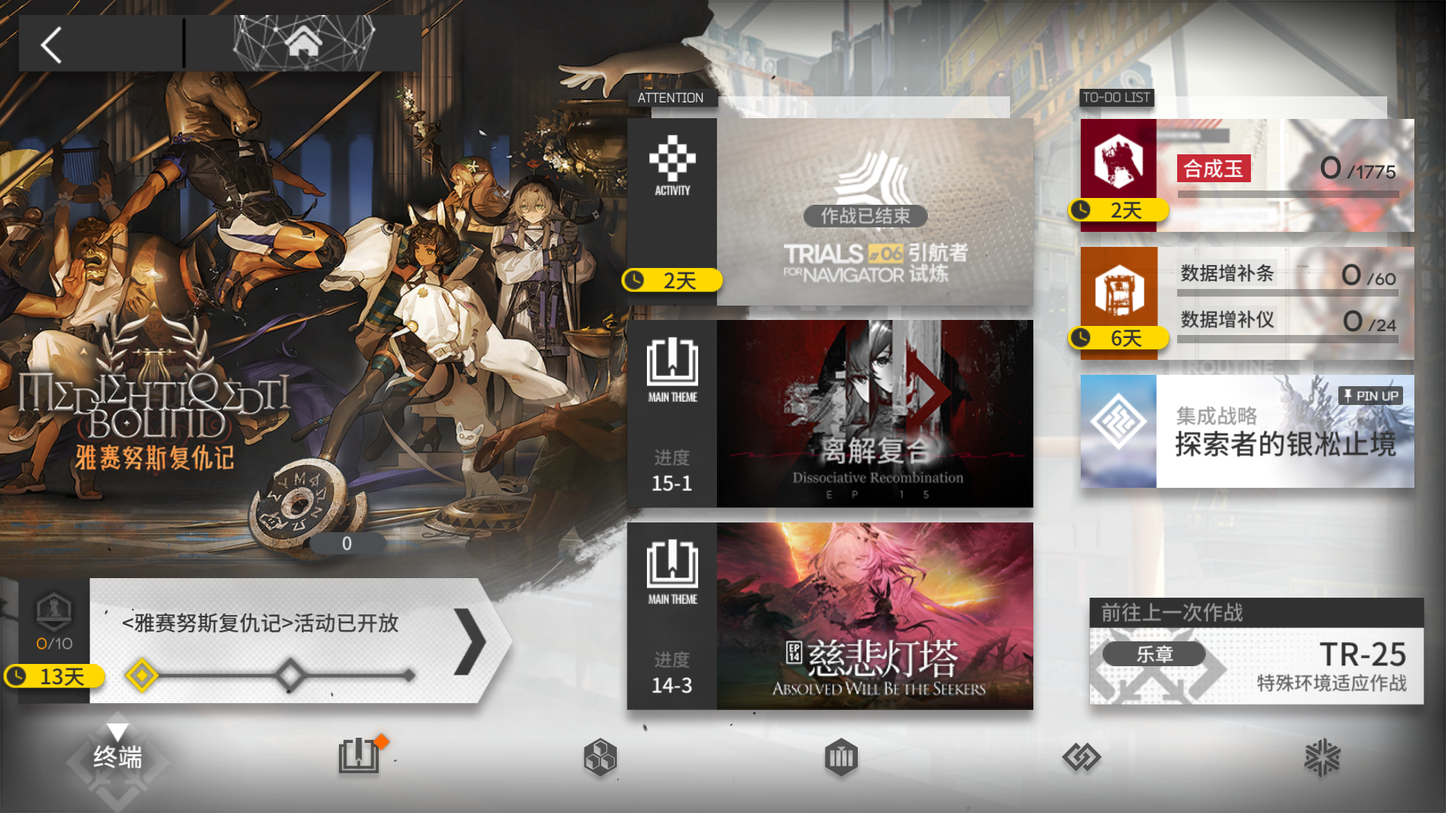Resource_Collection_Button: (543, 720, 666, 792)
Return_Button: (15, 14, 149, 76)
